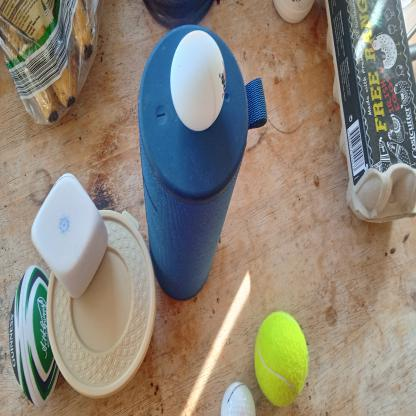Cube: (30, 170, 110, 302)
Rugby: (8, 260, 62, 411)
Tabel Tennis: (169, 28, 229, 134)
Tennis: (253, 308, 310, 408)
